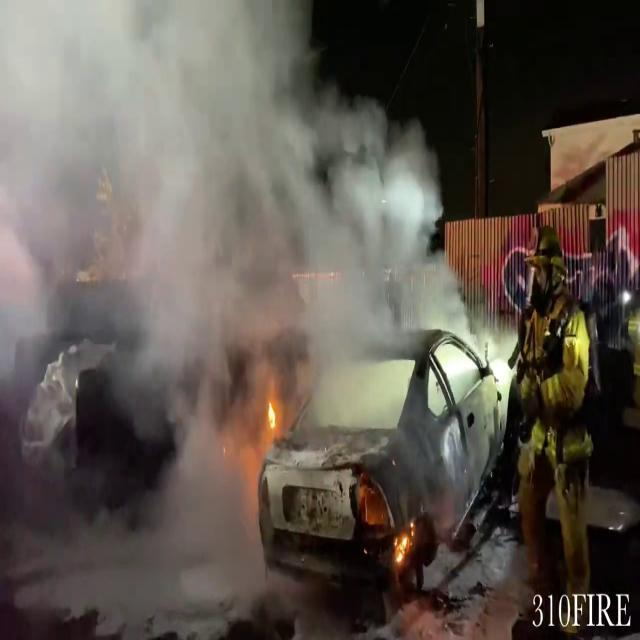Fire: (392, 515, 418, 573)
Smoke: (1, 0, 473, 430)
